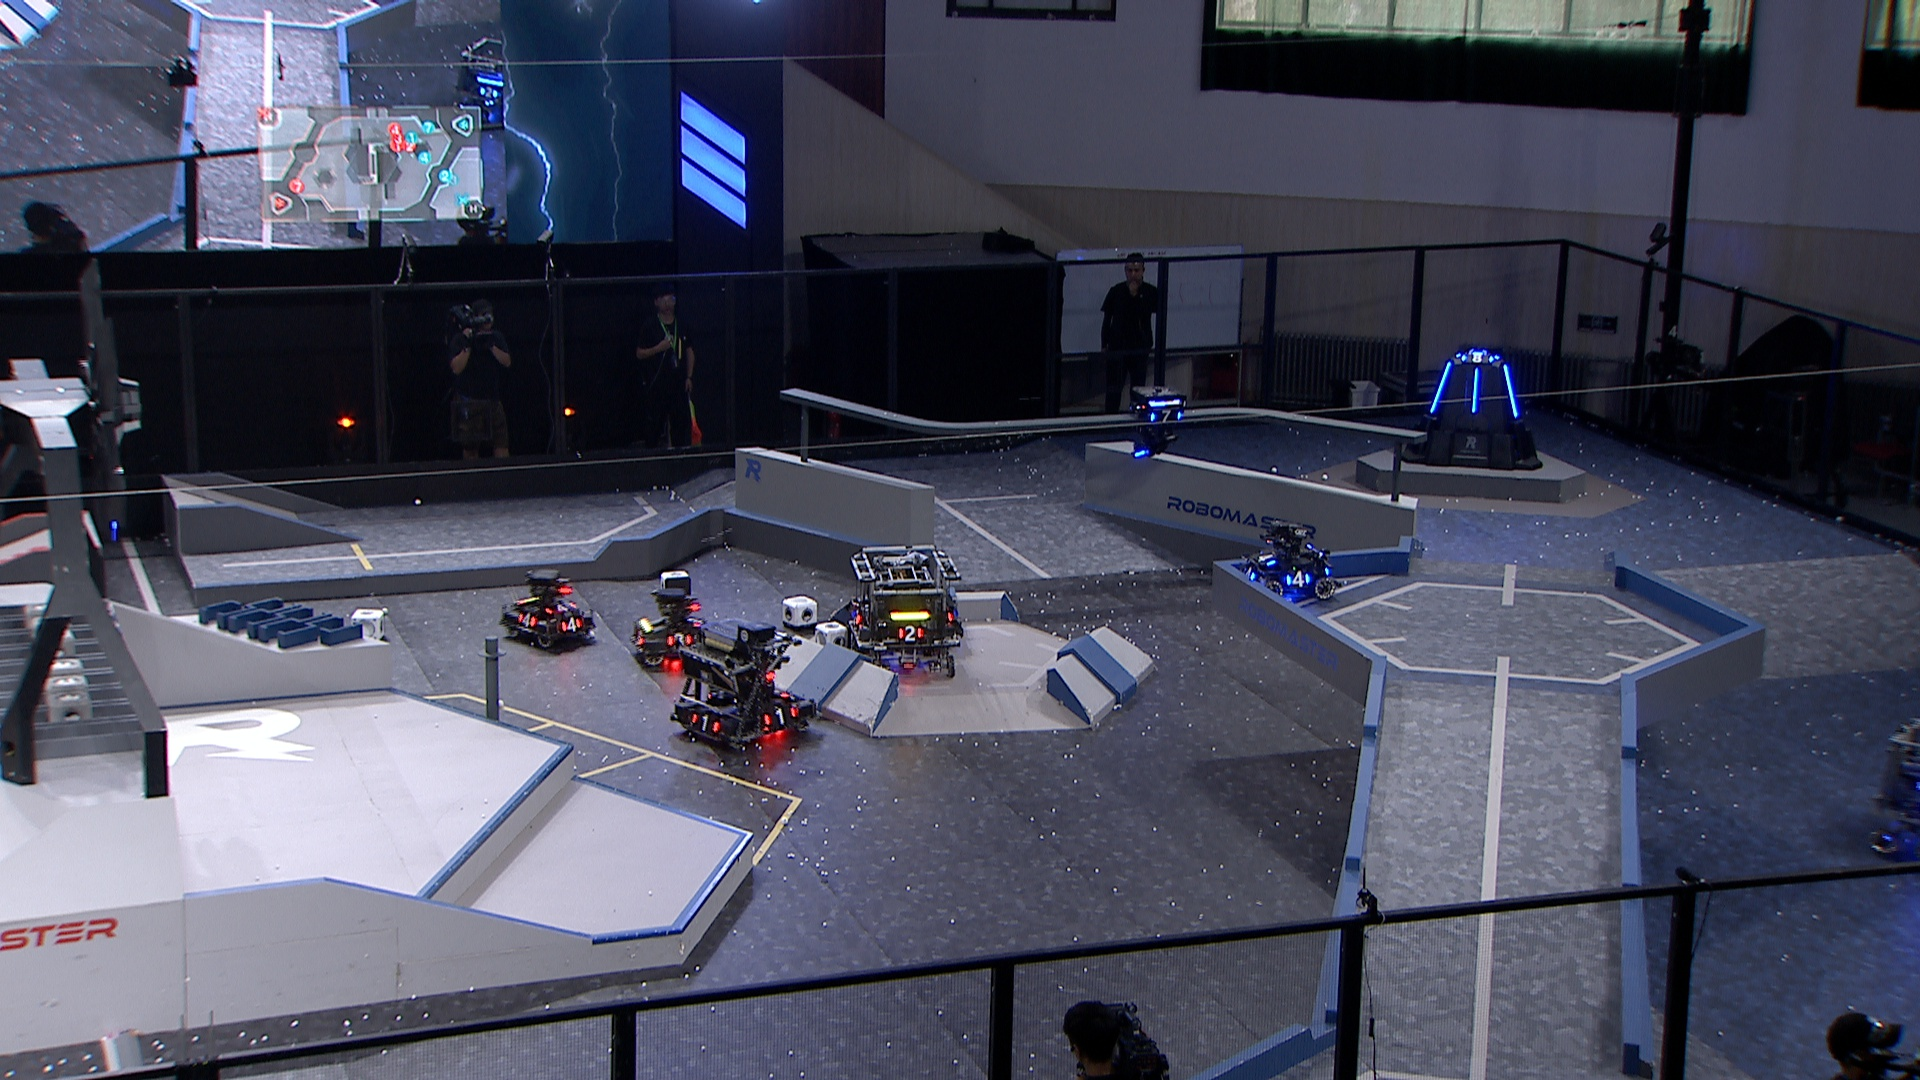armor: (1425, 360, 1453, 417), (1501, 361, 1522, 419), (761, 705, 798, 727), (688, 713, 723, 735), (1149, 406, 1182, 427), (895, 622, 926, 645), (1468, 367, 1481, 415), (1283, 568, 1313, 589), (1458, 351, 1495, 367), (542, 600, 580, 615), (662, 632, 694, 647), (1253, 551, 1278, 568), (516, 612, 539, 629), (560, 616, 582, 633), (632, 628, 647, 646), (1242, 564, 1258, 583), (683, 615, 707, 626), (851, 609, 864, 628)
base: (1400, 348, 1543, 473)
car: (669, 616, 818, 754), (847, 543, 965, 679), (1236, 517, 1337, 604), (1866, 713, 1920, 868), (500, 567, 599, 650), (628, 584, 712, 669)
ignore: (451, 36, 506, 115)
watcher: (1129, 384, 1187, 458)
